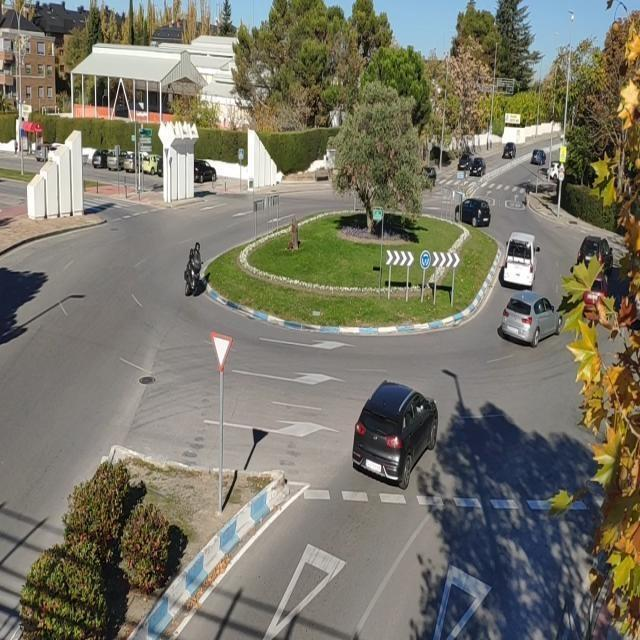Car: (351, 380, 438, 490), (501, 291, 563, 347), (577, 236, 614, 286), (456, 198, 492, 227), (194, 159, 218, 183), (469, 158, 486, 177), (503, 142, 516, 159)
Cycle: (183, 248, 204, 298)
Van: (501, 232, 541, 288)
